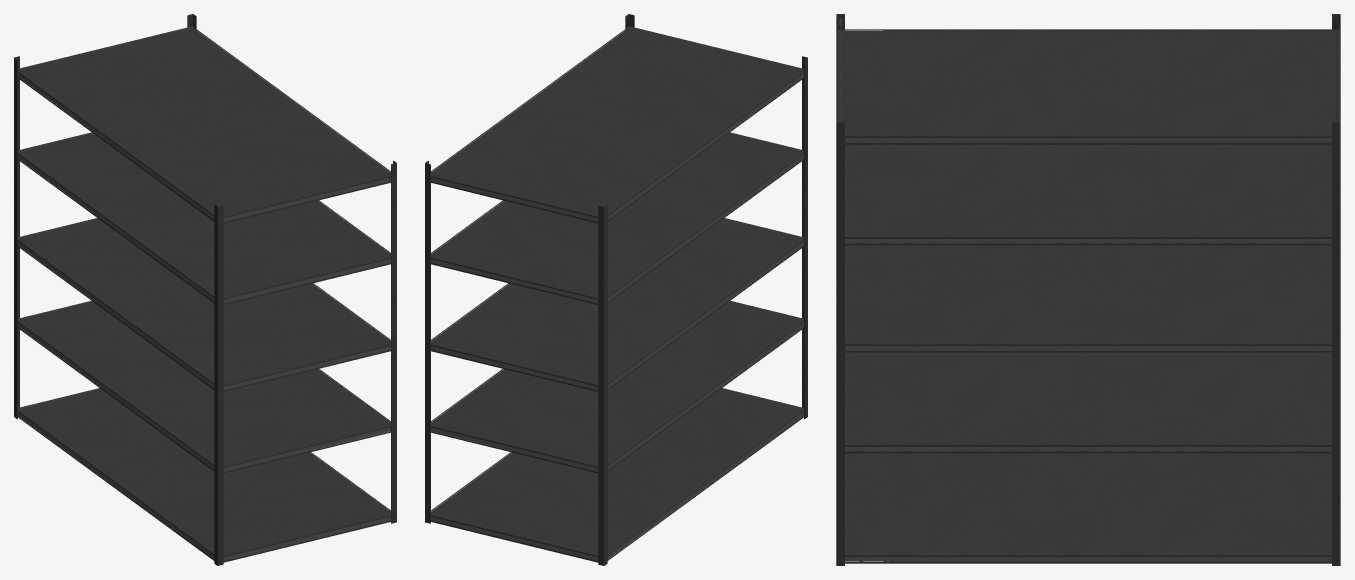
File: storage_shelf_basic_a01.glb
3 renders of one model, left to right at view 1: azimuth 30°, elevation 25°; view 2: azimuth 150°, elevation 25°; view 3: azimuth 270°, elevation 25°, orthographic. The views are drawn at different scales.
Parts seen in each view (by area): view 1: sm_storage_shelf_basic_a01_01; view 2: sm_storage_shelf_basic_a01_01; view 3: sm_storage_shelf_basic_a01_01.
Part boxes in pixels (left/top/right/bottom): sm_storage_shelf_basic_a01_01: left=14, top=14, right=396, bottom=565; sm_storage_shelf_basic_a01_01: left=425, top=14, right=807, bottom=565; sm_storage_shelf_basic_a01_01: left=836, top=14, right=1340, bottom=565.
Bounding box in the file's own units: 1.27 × 2.42 × 2.49.
Materials: 1 (1 with a texture image).
